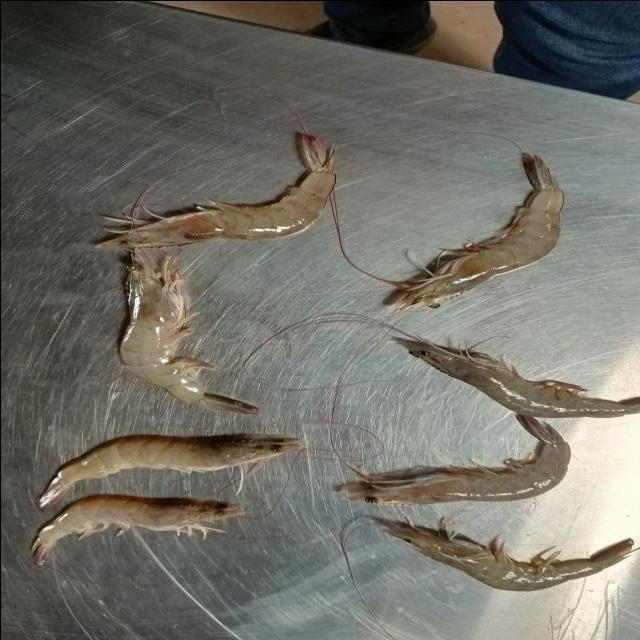shrimp: (98, 132, 335, 249), (390, 154, 563, 310), (120, 255, 257, 412), (394, 336, 640, 416), (341, 420, 569, 504), (40, 435, 301, 504), (385, 525, 629, 590), (33, 495, 239, 562), (483, 566, 487, 570)
